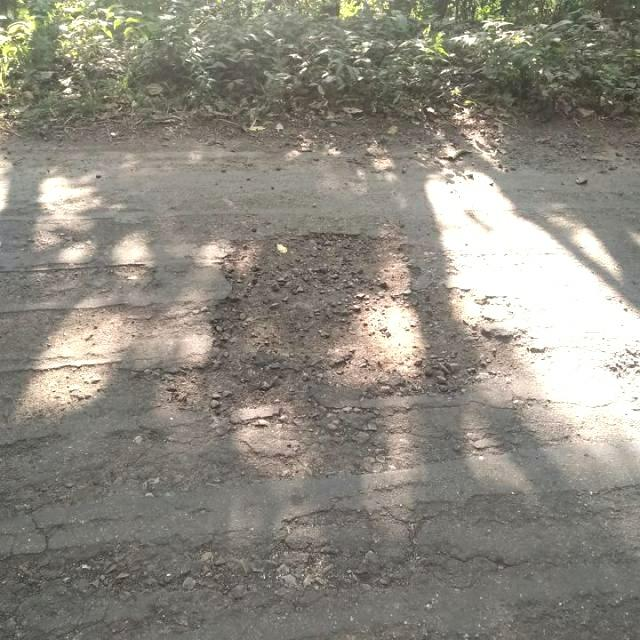Pothole: (190, 228, 530, 427)
